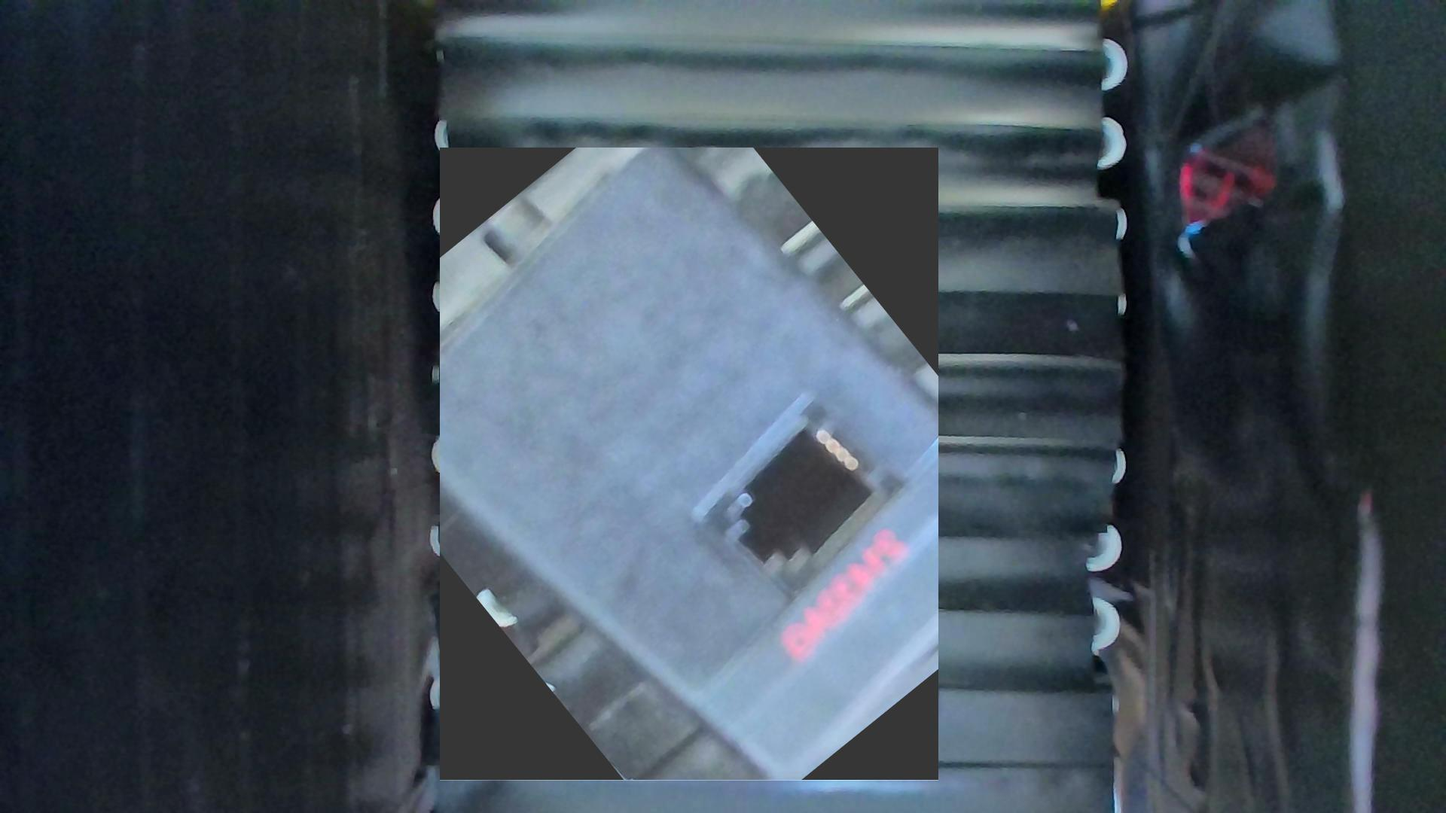motor: (440, 148, 938, 781)
